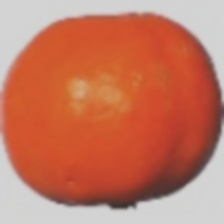tangerine: (30, 30, 168, 168)
